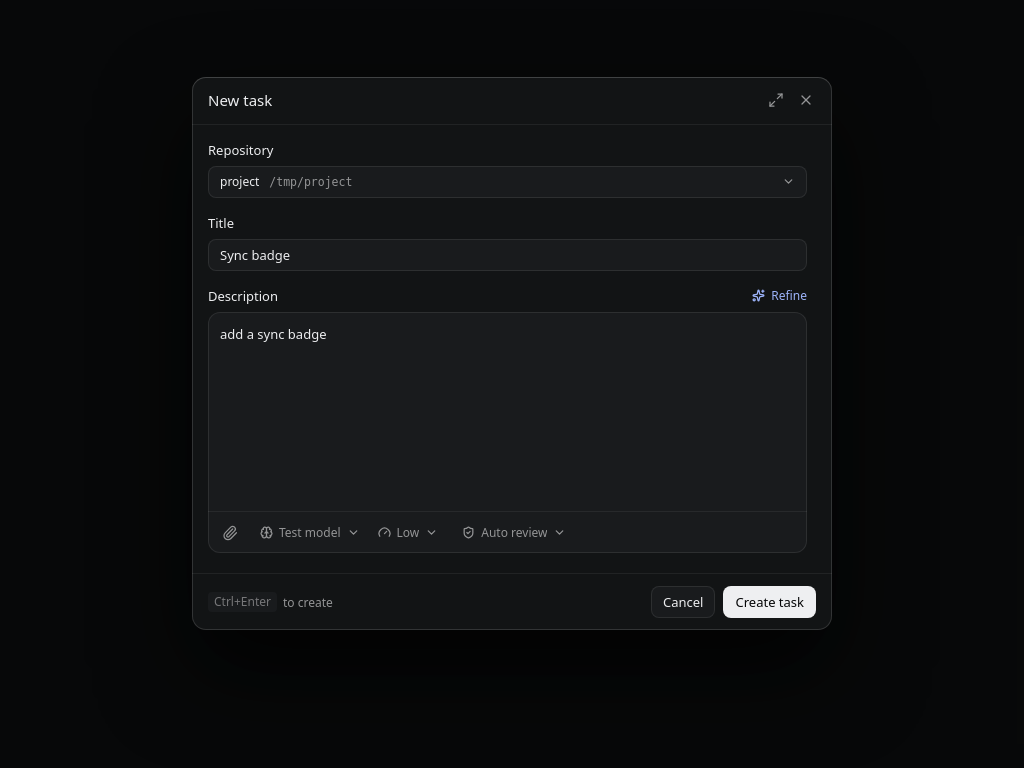
mounted NewTaskPanel prompt refinement › shows a specific degraded reason without presenting an unchanged proposal
The width and height of the screenshot is (1024, 768).
Click the button "Refine". click: (780, 296)
box: [752,284,807,308]
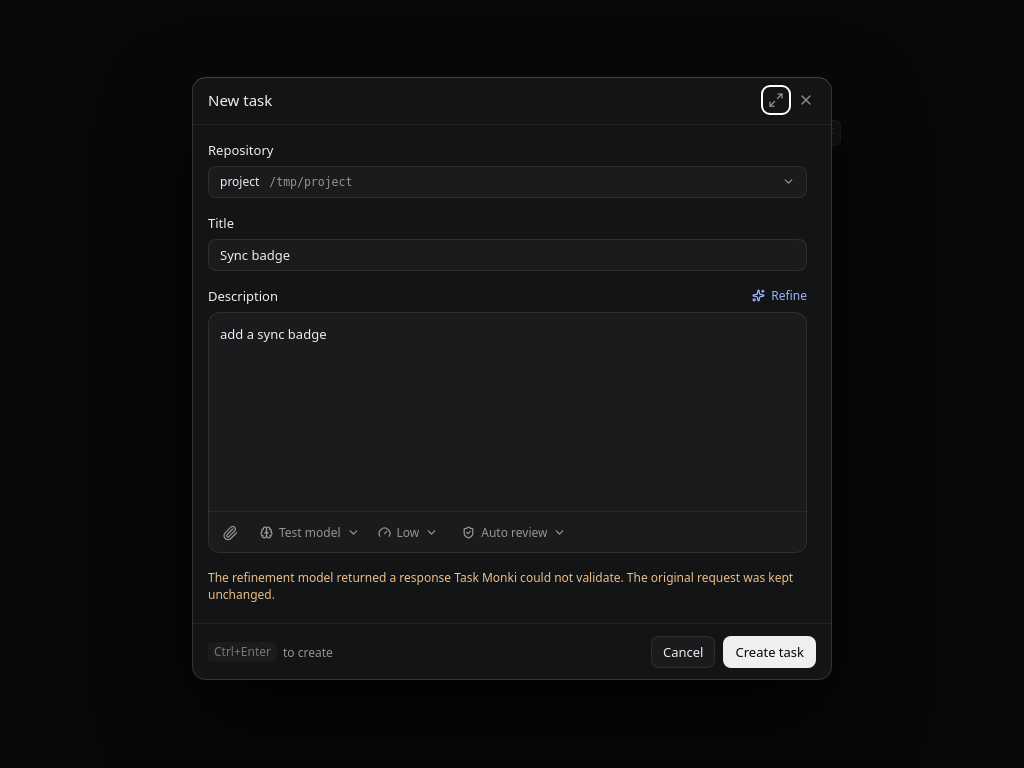
Expected: the text "The refinement model returned a response Task Monki could not validate. The original request was kept unchanged." is shown, [208,570,793,604]
